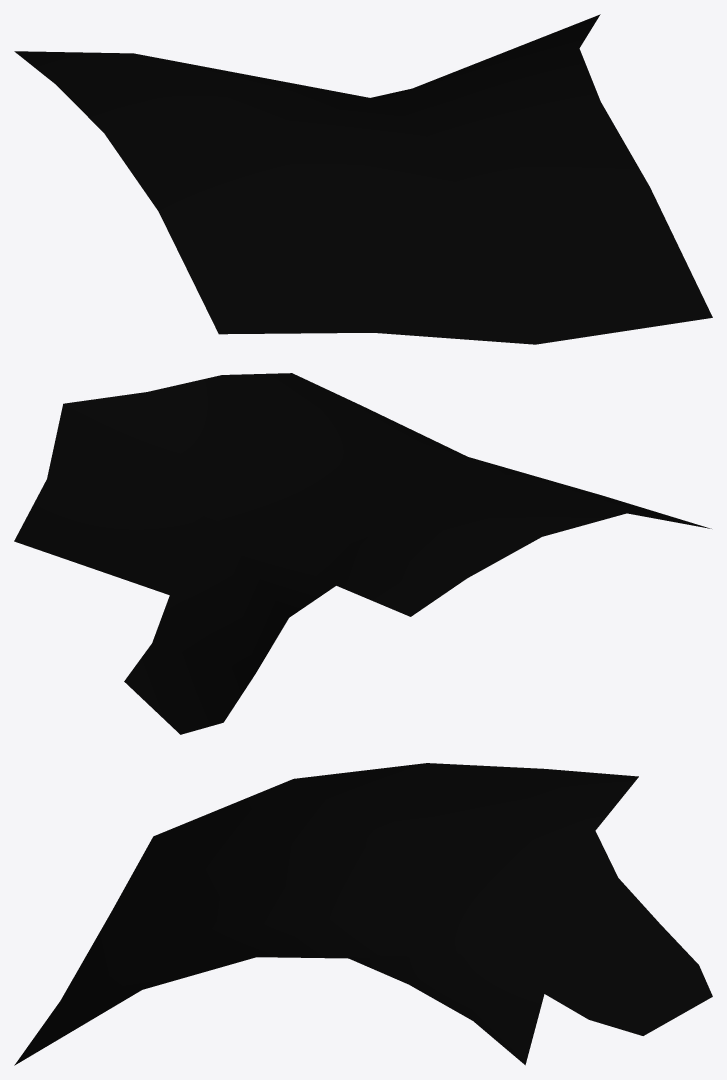
Rendered from HTOWN01_TREESHADOWS14.fbx.
3 views of the same model, one above another, from view 1: azimuth 30°, elevation 25°; view 2: azimuth 150°, elevation 25°; view 3: azimuth 270°, elevation 25° (orthographic). The views are drawn at different scales.
Parts seen in each view (by area): view 1: HTOWN01_TREESHADOWS14; view 2: HTOWN01_TREESHADOWS14; view 3: HTOWN01_TREESHADOWS14.
Part boxes in pixels (box(x1,y1,x2,y2)): HTOWN01_TREESHADOWS14: box(14, 14, 712, 344); HTOWN01_TREESHADOWS14: box(14, 373, 711, 734); HTOWN01_TREESHADOWS14: box(14, 763, 712, 1065).
Size of the model in its own units: 154805 by 42692 by 189587.
1 material, 1 textured.
